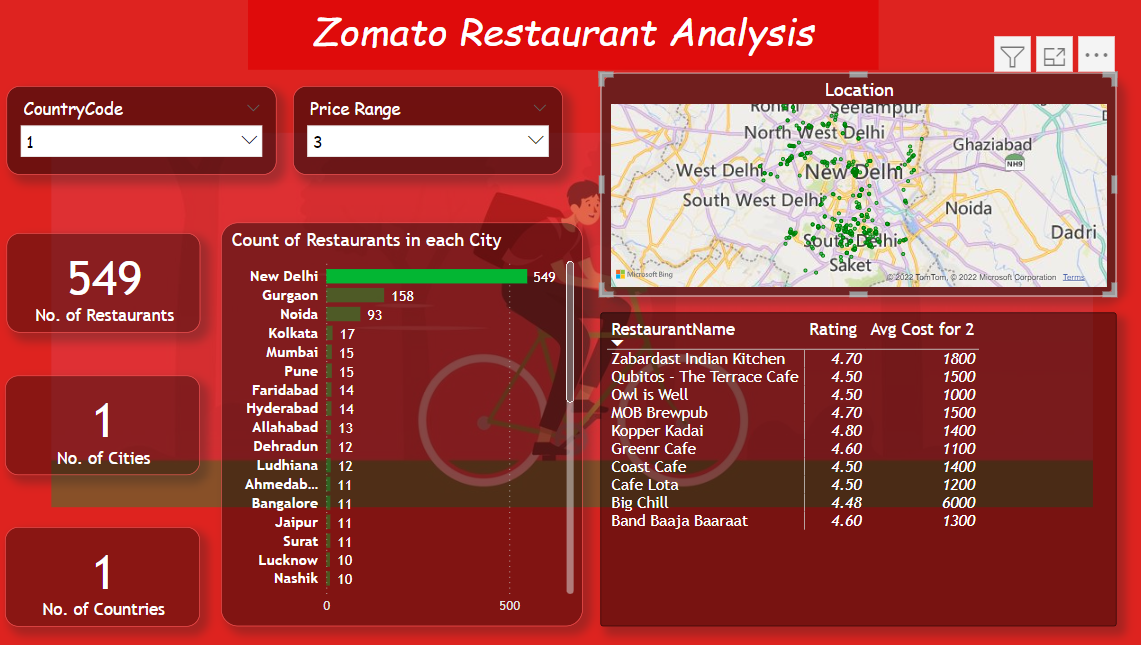

What the dashboard file says about the page in this screenshot:
{"tool":"powerbi","page":{"name":"Page 1","canvas":[1280,720],"ordinal":0},"visuals":[{"type":"card","fields":{"Values":["Count(ZomatoData.RestaurantID)"]},"box":[12.1,259.3,215.4,110.7],"z":0},{"type":"card","fields":{"Values":["Count(ZomatoData.City)"]},"box":[10.6,418.6,216.9,110.7],"z":1000},{"type":"card","fields":{"Values":["Count(ZomatoData.CountryCode)"]},"box":[10.6,586.9,216.9,110.7],"z":2000},{"type":"slicer","fields":{"Values":["ZomatoData.CountryCode"]},"box":[12.1,97.1,300.3,98.6],"z":3000},{"type":"slicer","fields":{"Values":["ZomatoData.Price_range"]},"box":[330.6,97.1,300.3,98.6],"z":4000},{"type":"clusteredBarChart","title":"Count of Restaurants in each City","fields":{"Category":["ZomatoData.City"],"Y":["CountNonNull(ZomatoData.RestaurantID)"]},"box":[250.2,248.7,401.9,448.9],"z":6000},{"type":"pivotTable","fields":{"Rows":["ZomatoData.RestaurantName"],"Values":["Avg(ZomatoData.Rating)","Sum(ZomatoData.Average_Cost_for_two)"]},"box":[671.8,348.8,573.3,348.8],"z":7000},{"type":"textbox","box":[280.6,0,700.7,78.9],"z":8000},{"type":"map","title":"Location","fields":{"Y":["ZomatoData.Latitude"],"X":["ZomatoData.Longitude"]},"box":[671.8,81.9,573.3,248.7],"z":9000}]}

Visuals, with their boxes in screenshot pixels (x1, y1, x2, y2), scaled from the page's 1280x720 canvas onto the 1141x645 screenshot:
card - Count(ZomatoData.RestaurantID): {"x1": 11, "y1": 232, "x2": 203, "y2": 331}
card - Count(ZomatoData.City): {"x1": 9, "y1": 375, "x2": 203, "y2": 474}
card - Count(ZomatoData.CountryCode): {"x1": 9, "y1": 526, "x2": 203, "y2": 625}
slicer - ZomatoData.CountryCode: {"x1": 11, "y1": 87, "x2": 278, "y2": 175}
slicer - ZomatoData.Price_range: {"x1": 295, "y1": 87, "x2": 562, "y2": 175}
"Count of Restaurants in each City" clusteredBarChart: {"x1": 223, "y1": 223, "x2": 581, "y2": 625}
pivotTable - ZomatoData.RestaurantName x Avg(ZomatoData.Rating): {"x1": 599, "y1": 312, "x2": 1110, "y2": 625}
textbox: {"x1": 250, "y1": 0, "x2": 875, "y2": 71}
"Location" map: {"x1": 599, "y1": 73, "x2": 1110, "y2": 296}
